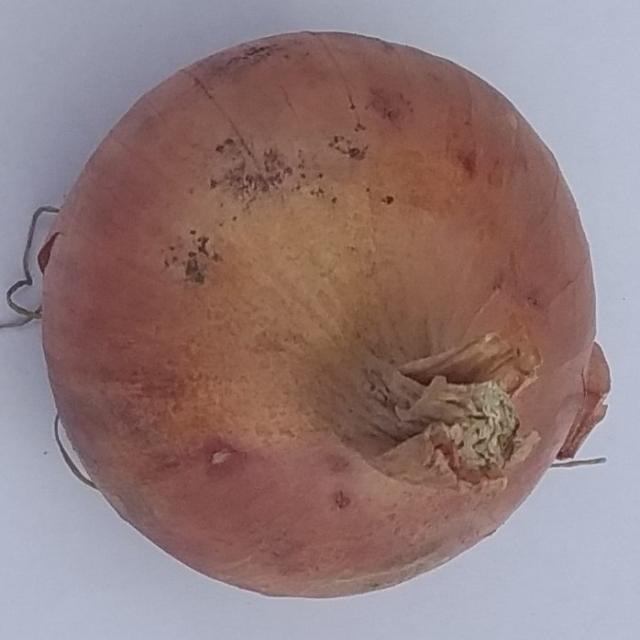onion: (32, 26, 619, 604)
